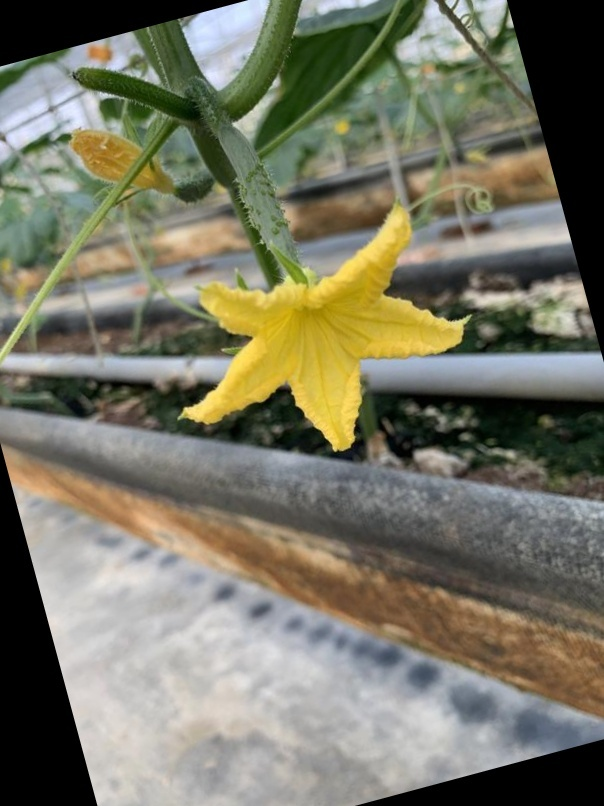flowering: (123, 104, 470, 452)
